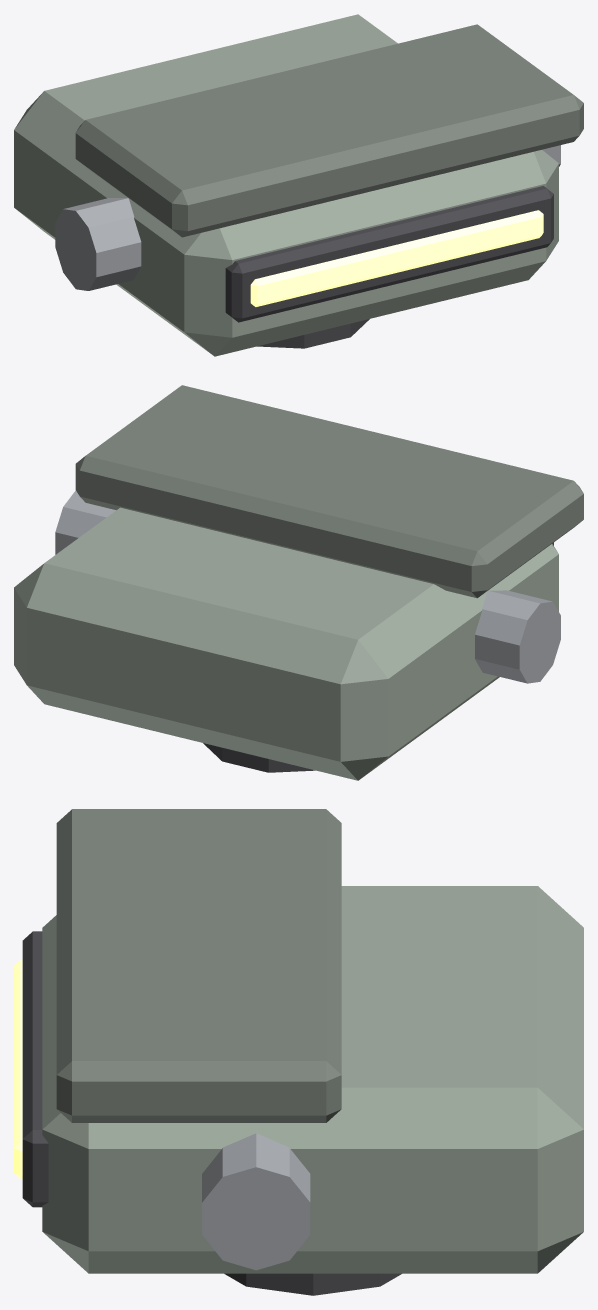
Rendered from heavy-head.glb.
3 views of the same model, one above another, from view 1: azimuth 30°, elevation 25°; view 2: azimuth 150°, elevation 25°; view 3: azimuth 270°, elevation 25° (orthographic). The views are drawn at different scales.
Parts seen in each view (by area): view 1: head; view 2: head; view 3: head.
Boxes of the visible parts, x1=… form: head: x1=14, y1=14, x2=583, y2=356; head: x1=14, y1=385, x2=583, y2=780; head: x1=14, y1=809, x2=583, y2=1295.
Bounding box in the file's own units: 1.24 × 0.605 × 1.
